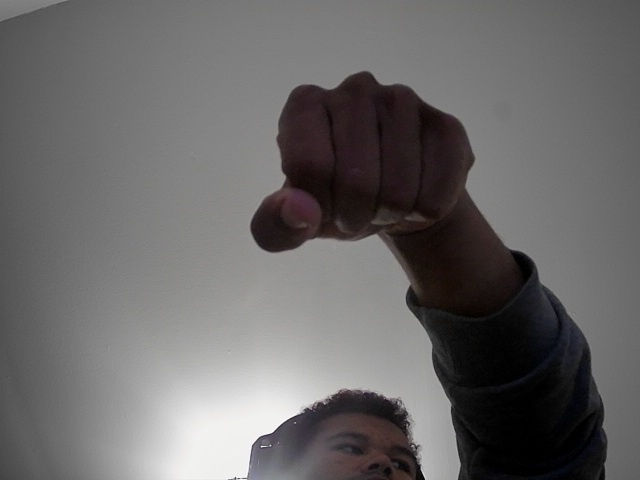Yes: (229, 62, 486, 261)
